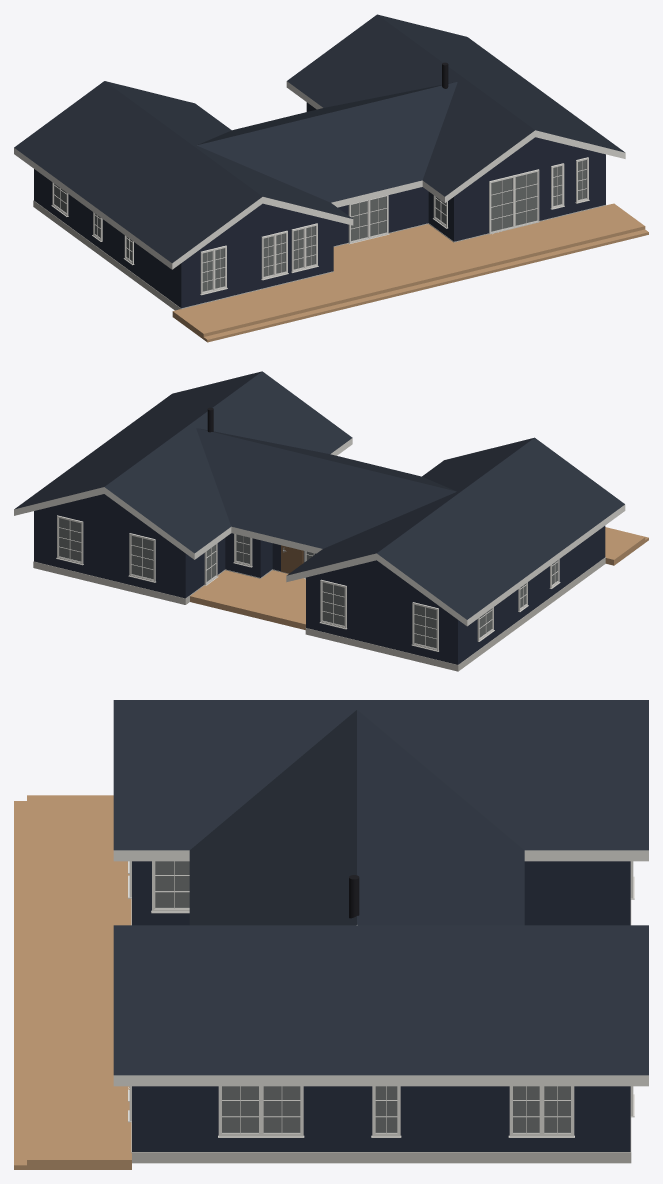
Rendered from teder224_c0_p0_m1.glb.
3 views of the same model, one above another, from view 1: azimuth 30°, elevation 25°; view 2: azimuth 150°, elevation 25°; view 3: azimuth 270°, elevation 25° (orthographic). The views are drawn at different scales.
Parts seen in each view (by area): view 1: roof, deck, wall, glass, curtain, frame, fascia, plinth; view 2: roof, wall, deck, fascia, glass, curtain, plinth, frame, door; view 3: roof, deck, wall, fascia, glass, curtain, plinth, frame.
Boxes of the visible parts, bbox=[...] form: roof: bbox=[14, 14, 624, 263]; deck: bbox=[172, 203, 648, 342]; wall: bbox=[34, 102, 605, 308]; glass: bbox=[54, 160, 586, 291]; curtain: bbox=[54, 160, 586, 291]; frame: bbox=[51, 157, 589, 295]; fascia: bbox=[14, 81, 625, 269]; plinth: bbox=[33, 200, 606, 310]; roof: bbox=[14, 371, 624, 619]; wall: bbox=[34, 494, 605, 664]; deck: bbox=[190, 527, 648, 629]; fascia: bbox=[14, 438, 625, 626]; glass: bbox=[59, 518, 557, 648]; curtain: bbox=[59, 518, 557, 647]; plinth: bbox=[33, 557, 605, 671]; frame: bbox=[56, 515, 560, 651]; door: bbox=[281, 545, 303, 573]; roof: bbox=[113, 700, 648, 1075]; deck: bbox=[14, 795, 131, 1169]; wall: bbox=[132, 861, 630, 1151]; fascia: bbox=[113, 850, 648, 1086]; glass: bbox=[155, 861, 570, 1132]; curtain: bbox=[155, 861, 570, 1132]; plinth: bbox=[131, 898, 631, 1163]; frame: bbox=[128, 861, 634, 1137].
Bounding box in the file's own units: 21.93 × 5.66 × 15.72.
12 materials, 5 textured.
